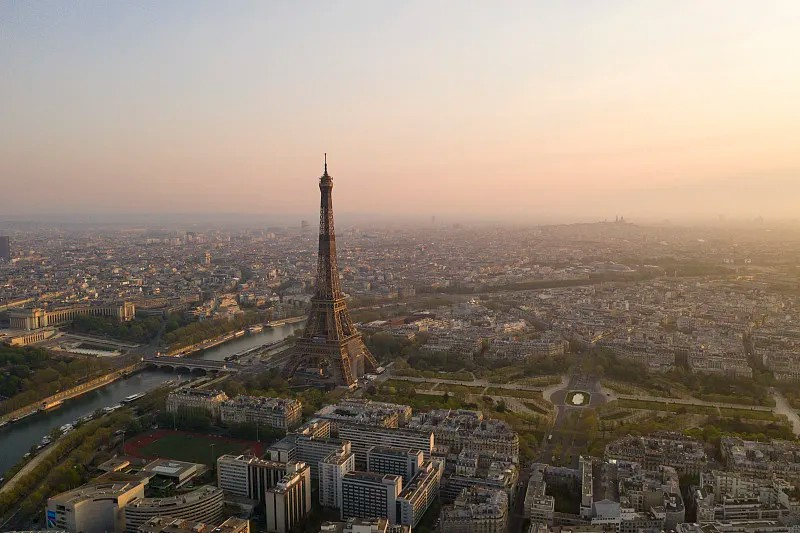Eiffel: (280, 153, 384, 394)
